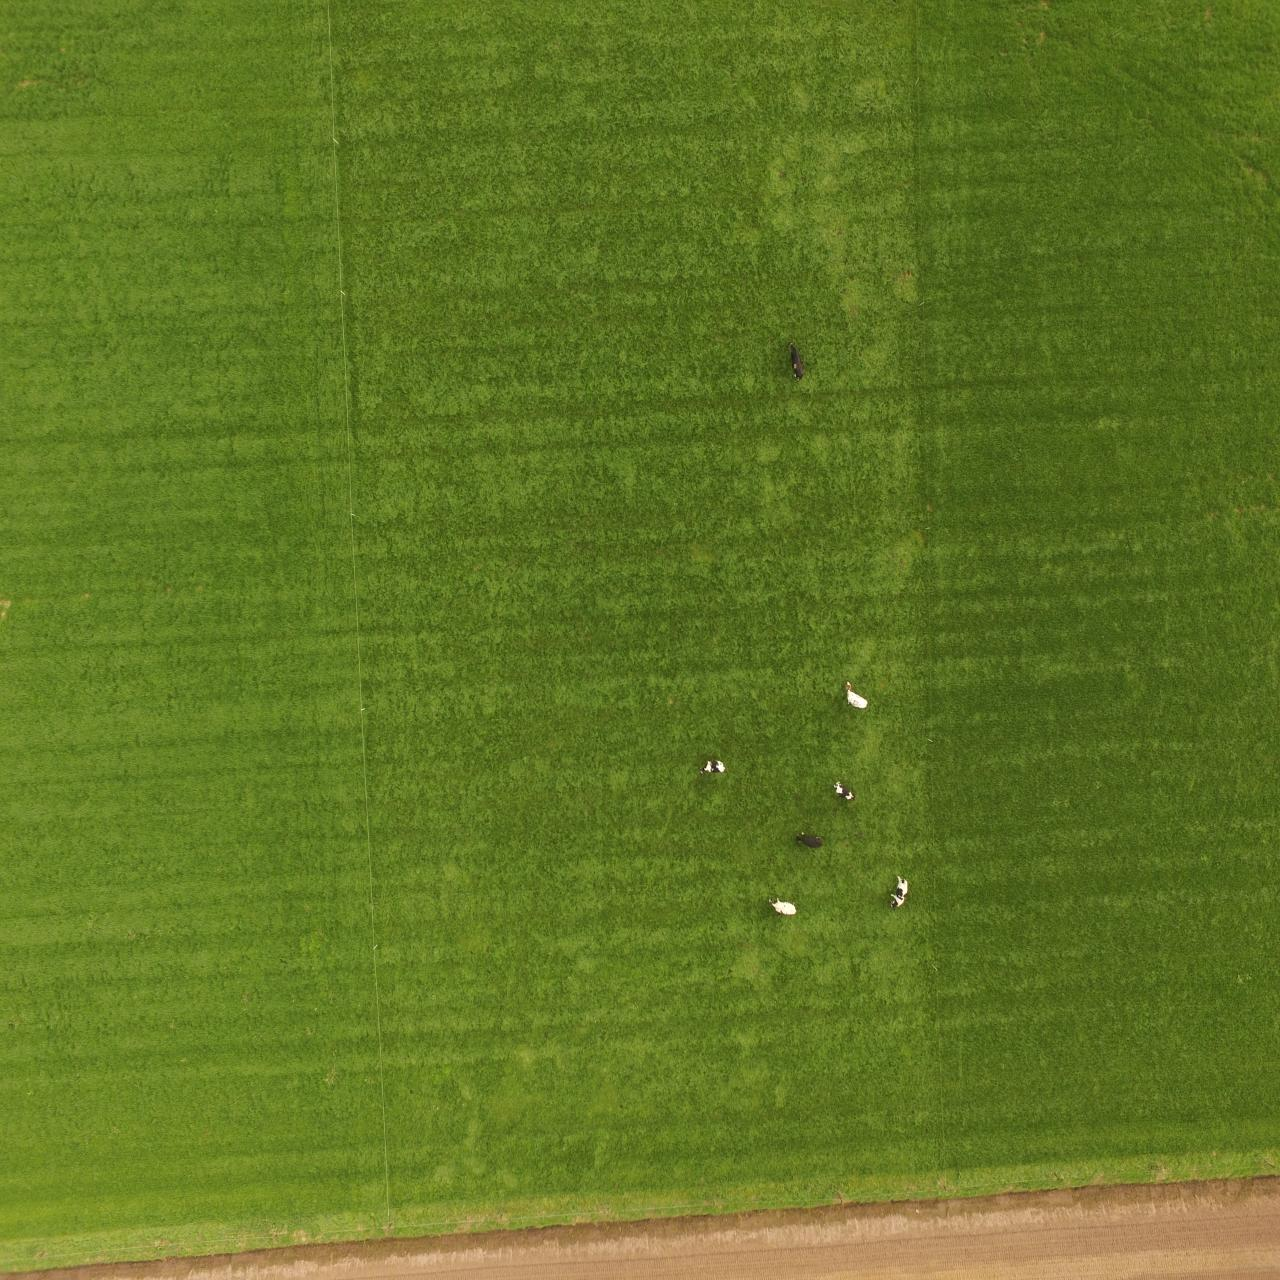cow: (785, 341, 810, 384), (844, 682, 870, 714), (887, 874, 908, 912), (768, 897, 801, 918), (699, 758, 727, 779), (832, 783, 858, 805), (794, 831, 825, 849)
